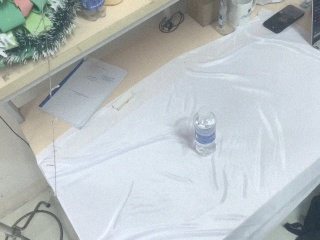bottle: (192, 106, 217, 157)
phone: (262, 3, 308, 34)
